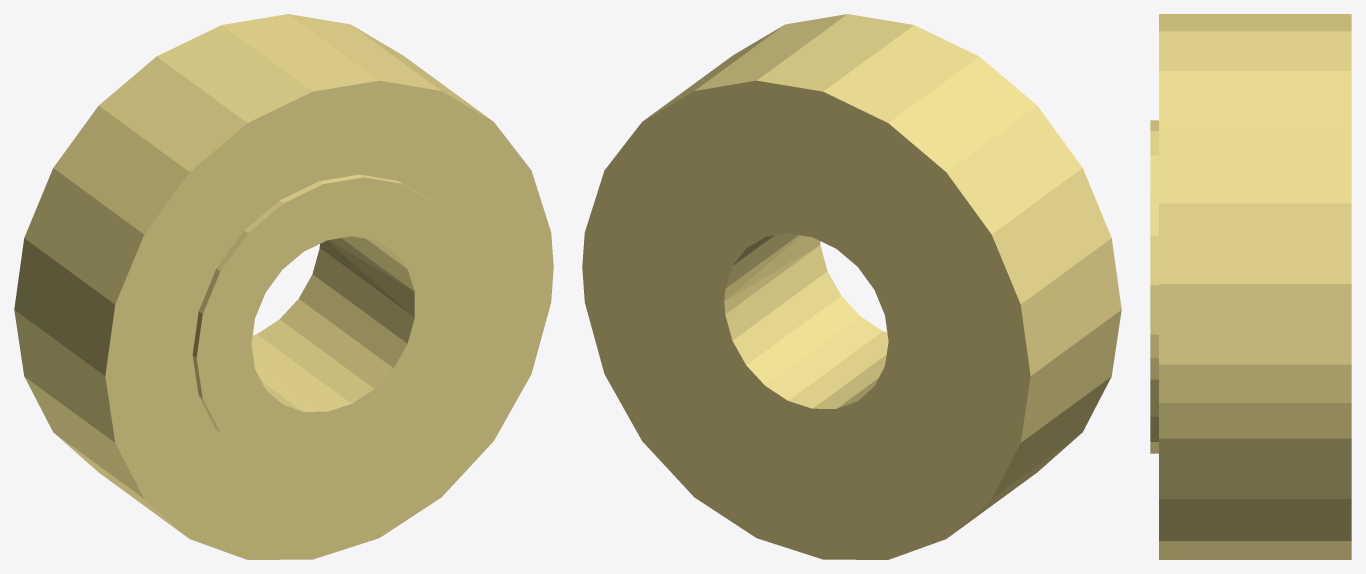
The model's file is cam_roller.glb.
The picture shows the model from 3 angles, left to right: view 1: azimuth 30°, elevation 25°; view 2: azimuth 150°, elevation 25°; view 3: azimuth 270°, elevation 25°; orthographic projection. The views are drawn at different scales.
Parts seen in each view (by area): view 1: Node1; view 2: Node1; view 3: Node1.
Part boxes in pixels (x1,y1,x2,y2): Node1: (14,14,553,559); Node1: (582,14,1121,559); Node1: (1150,14,1351,559).
Size of the model in its own units: 6.5 by 6.48 by 2.39.
